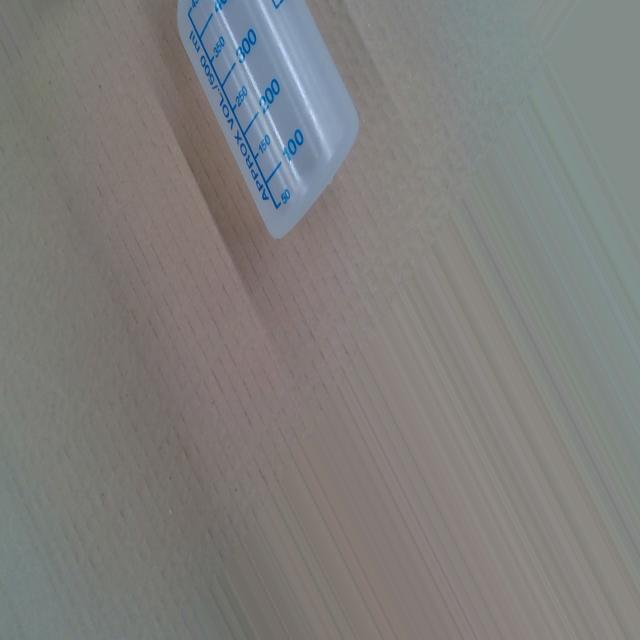bottle: (174, 2, 360, 244)
